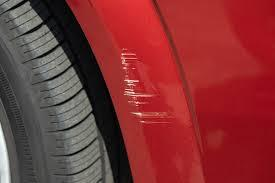scratch: (117, 44, 184, 127)
